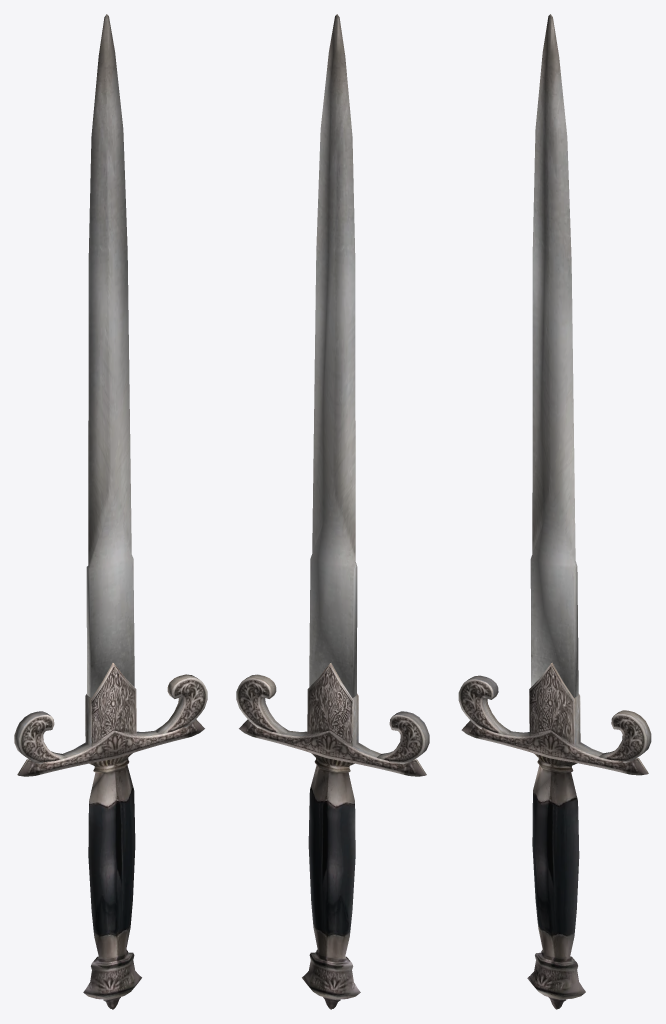
The model's file is side_sword.glb.
3 renders of one model, left to right at view 1: azimuth 30°, elevation 25°; view 2: azimuth 150°, elevation 25°; view 3: azimuth 330°, elevation 25°, orthographic.
Visible parts, largest first — view 1: side_sword; view 2: side_sword; view 3: side_sword.
Boxes of the visible parts, bbox=[...] form: side_sword: bbox=[14, 14, 207, 1009]; side_sword: bbox=[236, 14, 429, 1009]; side_sword: bbox=[458, 14, 651, 1009].
Bounding box in the file's own units: 0.2078 × 1.05 × 0.0275.
Materials: 1 (1 with a texture image).
